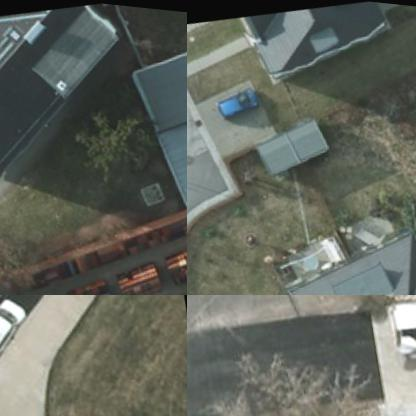car: (0, 295, 40, 366), (209, 82, 261, 130)
